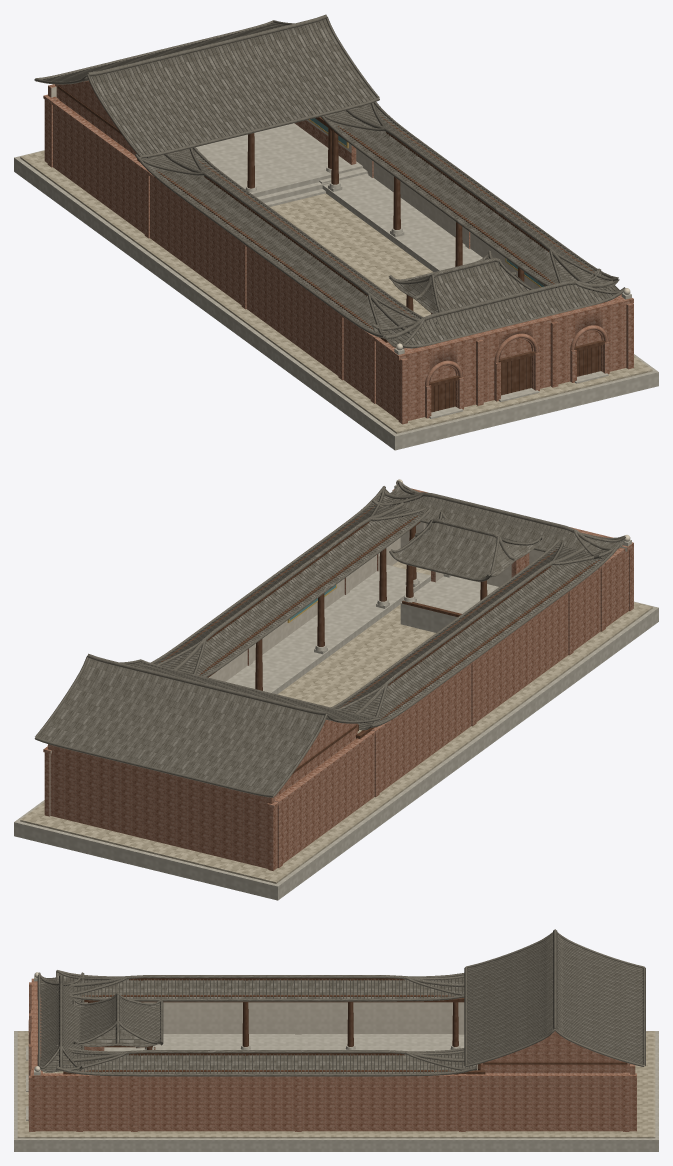
File: combined-a.glb
3 views of the same model, one above another, from view 1: azimuth 30°, elevation 25°; view 2: azimuth 150°, elevation 25°; view 3: azimuth 270°, elevation 25° (orthographic). The views are drawn at different scales.
Parts seen in each view (by area): view 1: 08_HallRoofCandidate, 02_Enclosure, 01_Base, 07_Entrance, 05_EastGallery, 04_WestGallery, 03_MainHall, 06_Stage; view 2: 02_Enclosure, 08_HallRoofCandidate, 01_Base, 05_EastGallery, 04_WestGallery, 06_Stage, 07_Entrance, 03_MainHall; view 3: 02_Enclosure, 08_HallRoofCandidate, 01_Base, 04_WestGallery, 05_EastGallery, 07_Entrance, 06_Stage, 03_MainHall.
Part boxes in pixels (x1,y1,x2,y2): 08_HallRoofCandidate: [34, 14, 379, 158]; 02_Enclosure: [43, 84, 621, 417]; 01_Base: [14, 150, 658, 450]; 07_Entrance: [372, 268, 633, 424]; 05_EastGallery: [315, 102, 619, 292]; 04_WestGallery: [135, 147, 437, 342]; 03_MainHall: [58, 89, 362, 206]; 06_Stage: [389, 250, 533, 348]; 02_Enclosure: [43, 537, 625, 870]; 08_HallRoofCandidate: [34, 653, 379, 797]; 01_Base: [14, 561, 658, 900]; 05_EastGallery: [150, 486, 431, 694]; 04_WestGallery: [331, 537, 620, 738]; 06_Stage: [389, 511, 542, 632]; 07_Entrance: [372, 479, 633, 613]; 03_MainHall: [275, 724, 358, 797]; 02_Enclosure: [42, 1002, 636, 1131]; 08_HallRoofCandidate: [464, 929, 645, 1073]; 01_Base: [14, 1031, 658, 1151]; 04_WestGallery: [56, 970, 464, 1051]; 05_EastGallery: [56, 1045, 485, 1076]; 07_Entrance: [26, 972, 84, 1131]; 06_Stage: [72, 993, 163, 1051]; 03_MainHall: [477, 1063, 627, 1073].
Size of the model in its own units: 11.8 by 6.02 by 29.5.
13 materials, 10 textured.
